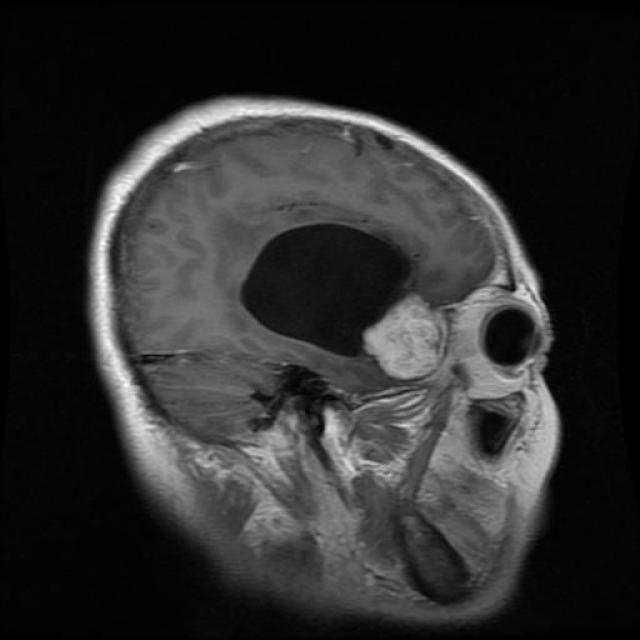meningioma: (364, 295, 448, 378)
